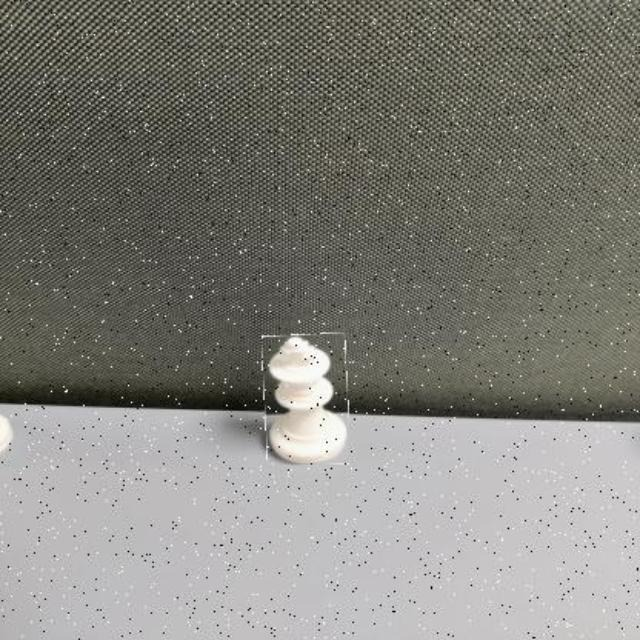white-king: (263, 333, 349, 465)
